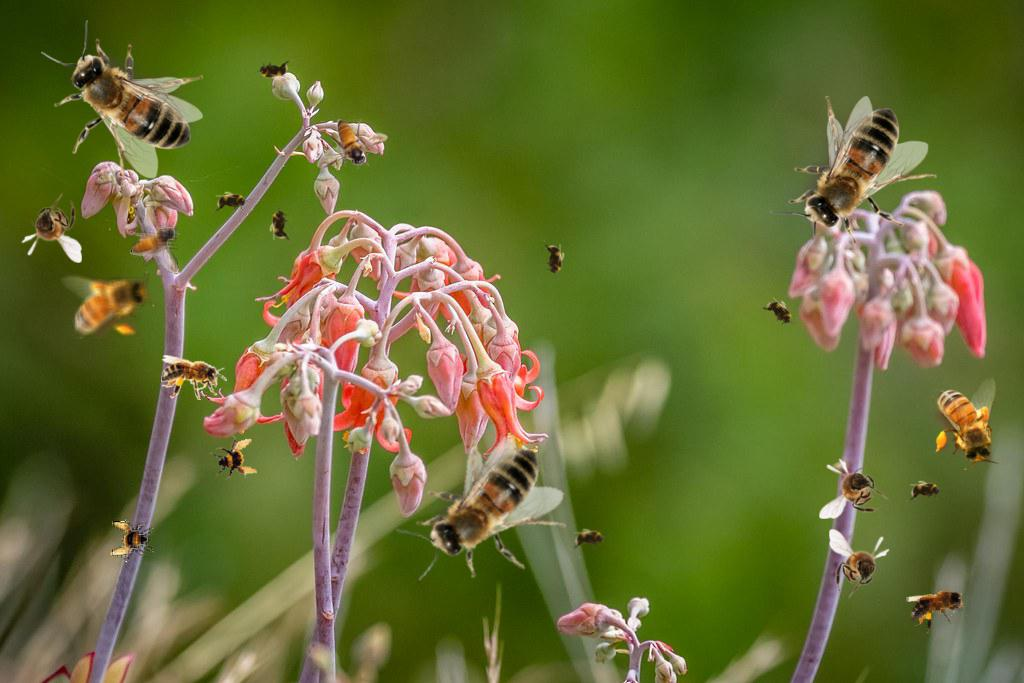Bee: (387, 415, 582, 607), (41, 20, 203, 187), (770, 96, 937, 258), (932, 377, 1000, 470), (61, 271, 154, 339), (902, 575, 980, 640), (21, 193, 82, 263), (819, 458, 889, 519), (829, 529, 890, 599), (130, 204, 180, 275), (317, 119, 388, 169), (161, 355, 227, 400), (207, 431, 261, 485), (110, 519, 154, 563), (758, 291, 802, 335), (212, 191, 252, 213), (253, 59, 293, 81), (269, 204, 291, 244), (543, 240, 565, 280), (906, 480, 946, 502), (570, 528, 610, 550)
